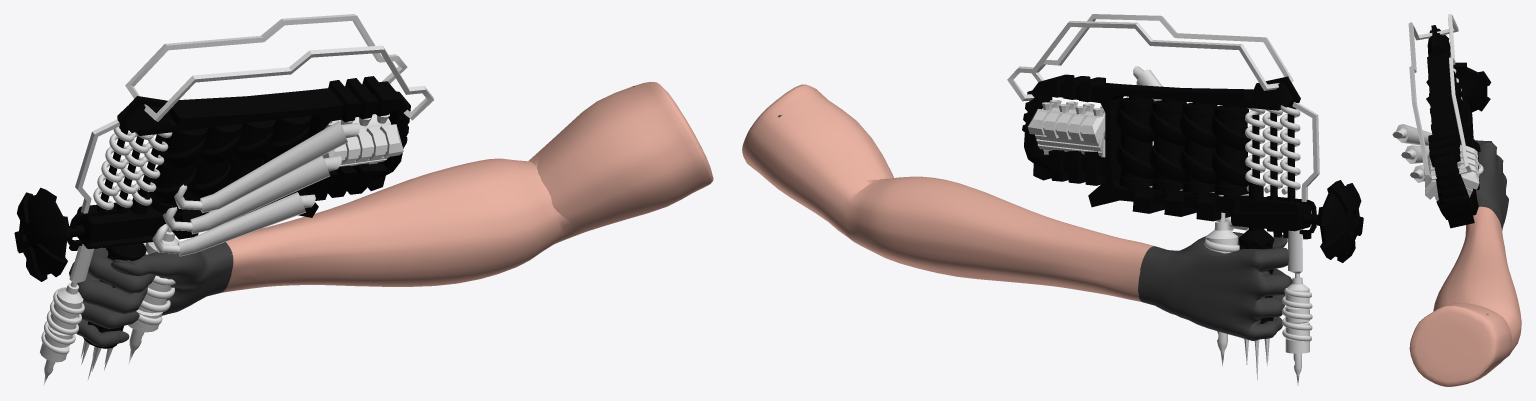
Rendered from npc_Tatgun09.fbx.
The picture shows the model from 3 angles, left to right: view 1: azimuth 30°, elevation 25°; view 2: azimuth 150°, elevation 25°; view 3: azimuth 270°, elevation 25°; orthographic projection. The views are drawn at different scales.
Parts seen in each view (by area): view 1: tatgun09; view 2: tatgun09; view 3: tatgun09.
Boxes of the visible parts, x1,y1,x2,y2 form: tatgun09: (14,14,713,385); tatgun09: (742,14,1363,385); tatgun09: (1392,14,1521,386).
Bounding box in the file's own units: 448 × 222 × 105.
2 materials, 1 textured.
